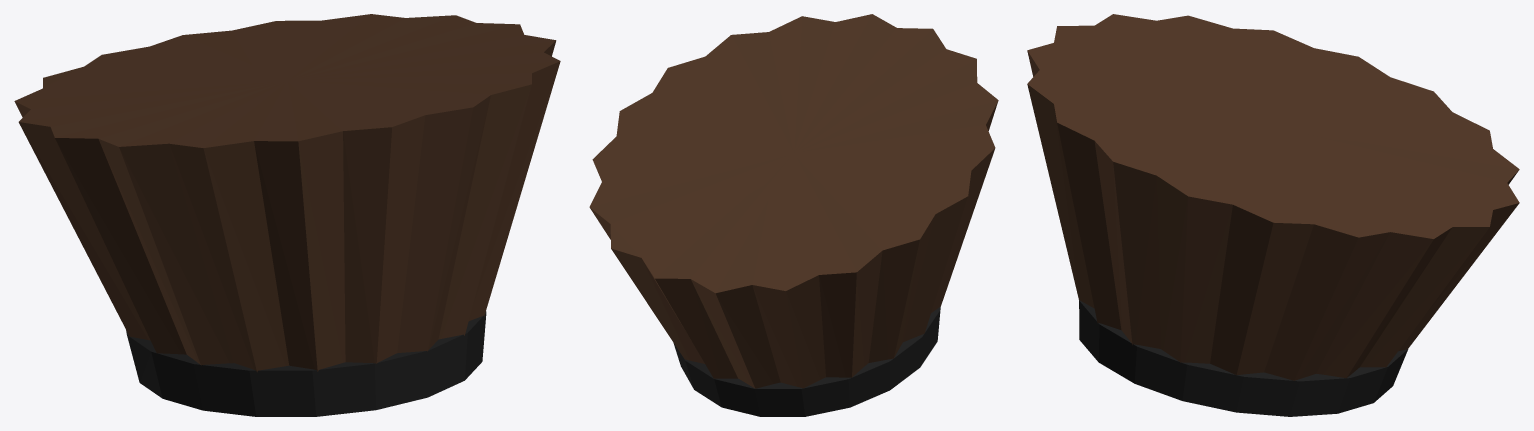
File: SM_helmet_persian.fbx
3 renders of one model, left to right at view 1: azimuth 30°, elevation 25°; view 2: azimuth 150°, elevation 25°; view 3: azimuth 270°, elevation 25°, orthographic. The views are drawn at different scales.
Parts seen in each view (by area): view 1: Object124320; view 2: Object124320; view 3: Object124320.
Boxes of the visible parts, x1,y1,x2,y2 form: Object124320: (14,14,560,416); Object124320: (589,14,998,416); Object124320: (1027,14,1519,416).
Size of the model in its own units: 15.99 by 11.95 by 17.3.
